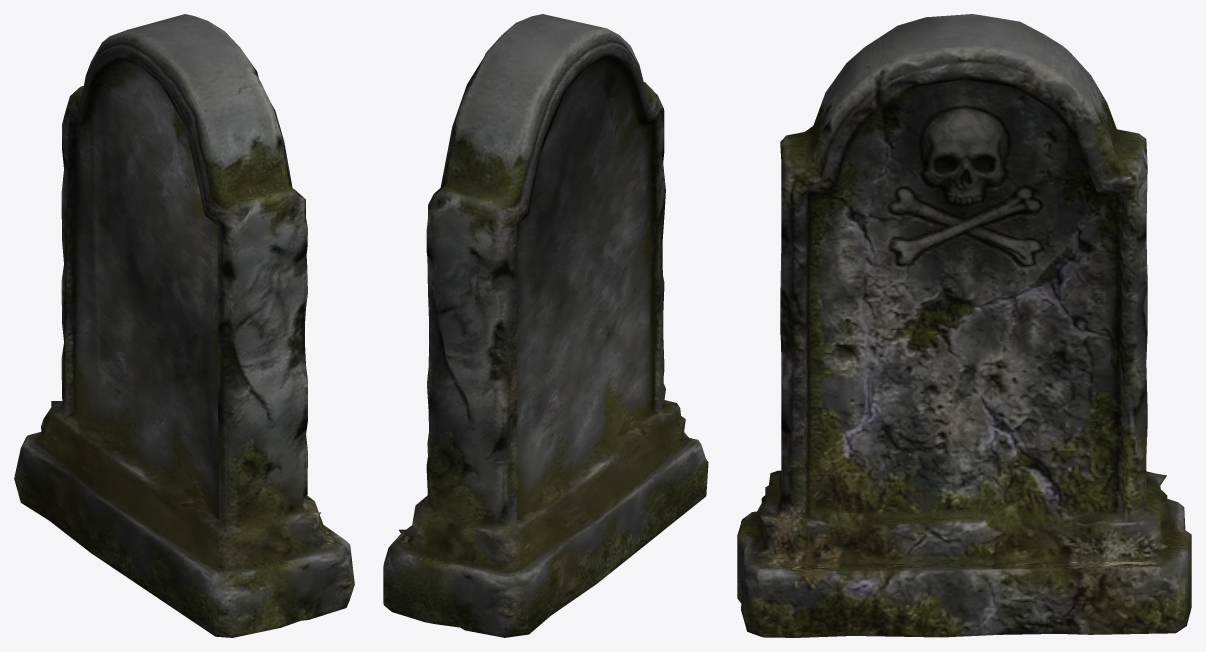
File: tombstone_round.glb
3 renders of one model, left to right at view 1: azimuth 30°, elevation 25°; view 2: azimuth 150°, elevation 25°; view 3: azimuth 270°, elevation 25°, orthographic. The views are drawn at different scales.
Parts seen in each view (by area): view 1: tripo_node_186b65da-2f2c-424f-b2a5-5278b2d7953c; view 2: tripo_node_186b65da-2f2c-424f-b2a5-5278b2d7953c; view 3: tripo_node_186b65da-2f2c-424f-b2a5-5278b2d7953c.
Boxes of the visible parts, left/top/right/bottom form: tripo_node_186b65da-2f2c-424f-b2a5-5278b2d7953c: left=14, top=14, right=354, bottom=637; tripo_node_186b65da-2f2c-424f-b2a5-5278b2d7953c: left=383, top=14, right=708, bottom=637; tripo_node_186b65da-2f2c-424f-b2a5-5278b2d7953c: left=737, top=14, right=1191, bottom=637.
Bounding box in the file's own units: 0.2988 × 0.998 × 0.7246.
1 material, 1 textured.
